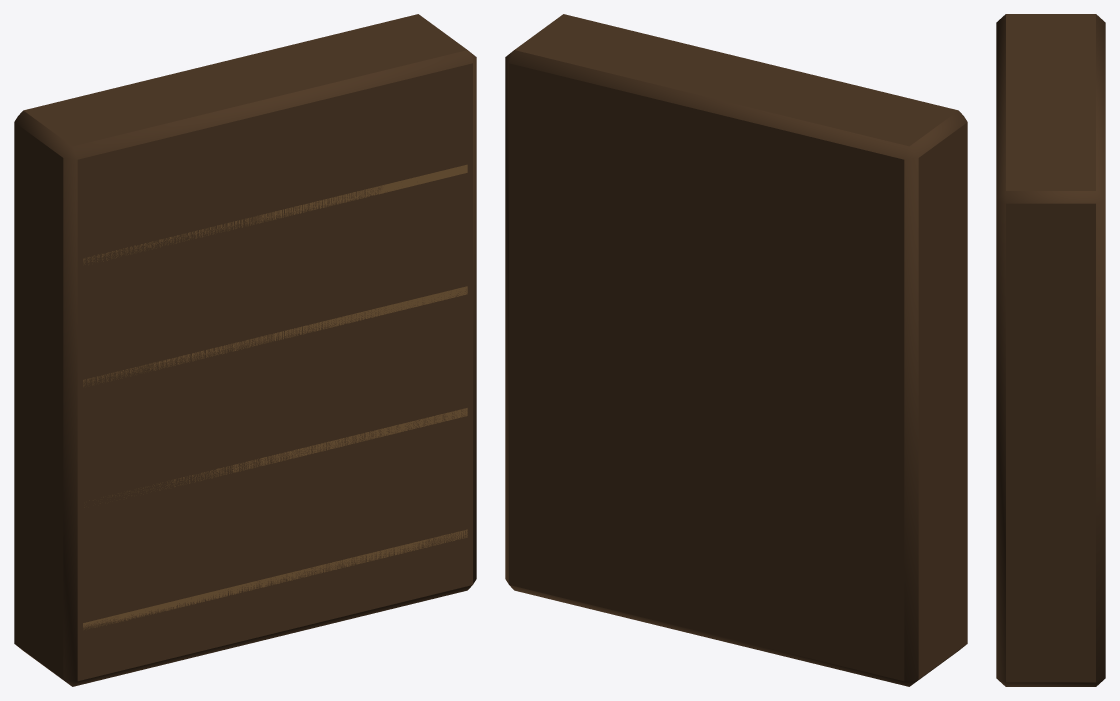
File: shelf.glb
The picture shows the model from 3 angles, left to right: view 1: azimuth 30°, elevation 25°; view 2: azimuth 150°, elevation 25°; view 3: azimuth 270°, elevation 25°; orthographic projection. The views are drawn at different scales.
Visible parts, largest first — view 1: building; view 2: building; view 3: building.
Part boxes in pixels (<box>): building: <box>14,14,476,686</box>; building: <box>505,14,967,686</box>; building: <box>996,14,1105,686</box>.
Size of the model in its own units: 1.6 by 2 by 0.4.
